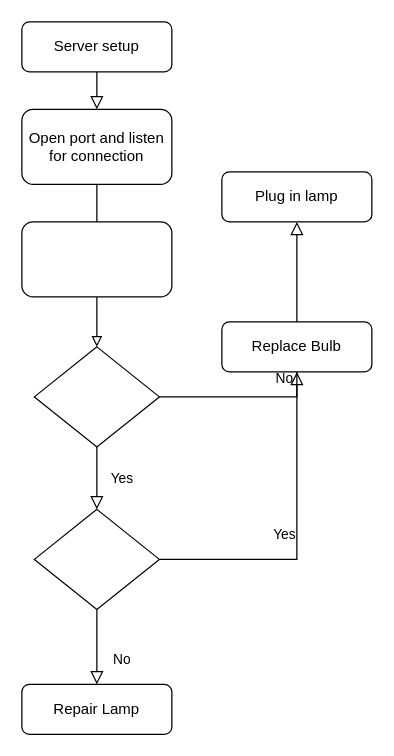
Image size: 394x756. Some labels were removed from this diagram. The shapes that lost their labels are listed below. From the top down, each one's box as (x1, y1, x2, y2) in pixels, then its label:
(21, 221, 172, 297): Accept connection between server and client
(33, 346, 159, 447): Lamp plugged in?
(33, 508, 159, 609): Bulb burned out?
